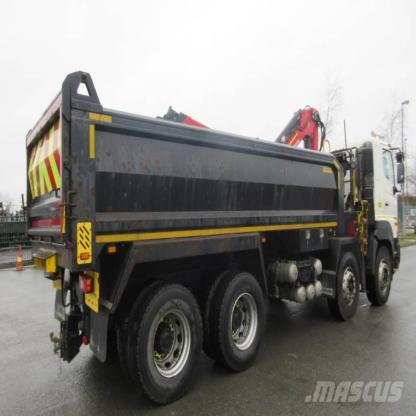dump_truck: (20, 62, 404, 403)
